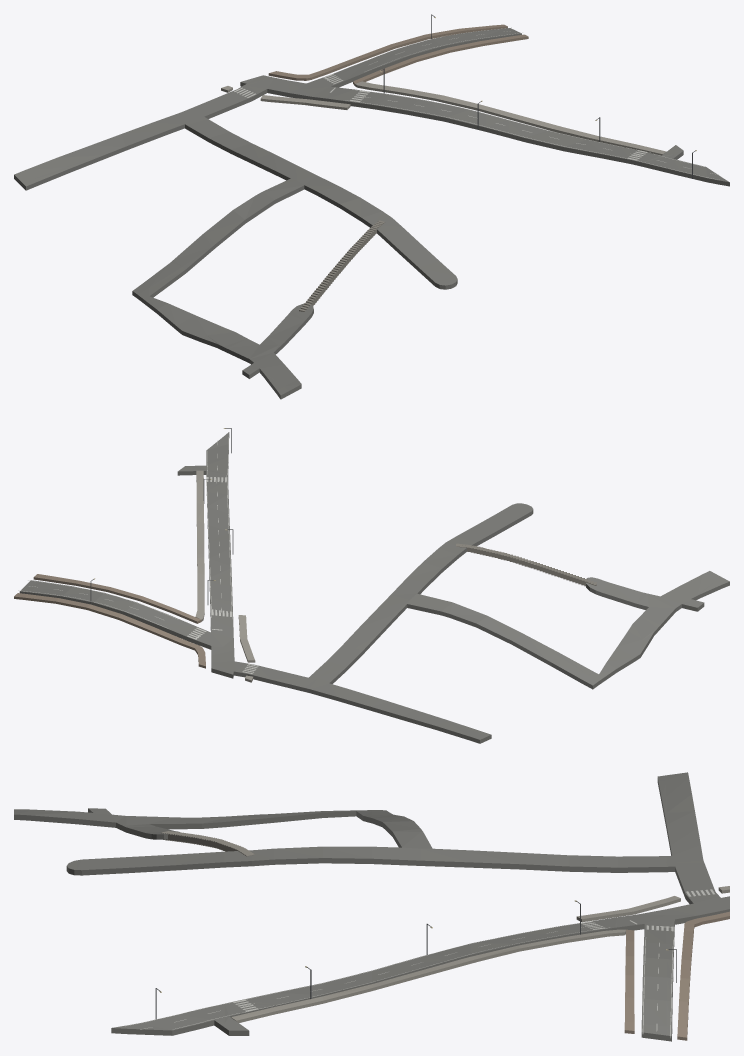
3 renders of one model, top to bottom at view 1: azimuth 30°, elevation 25°; view 2: azimuth 150°, elevation 25°; view 3: azimuth 270°, elevation 25°, orthographic. The views are drawn at different scales.
Size of the model in its own units: 148 by 28.62 by 146.
